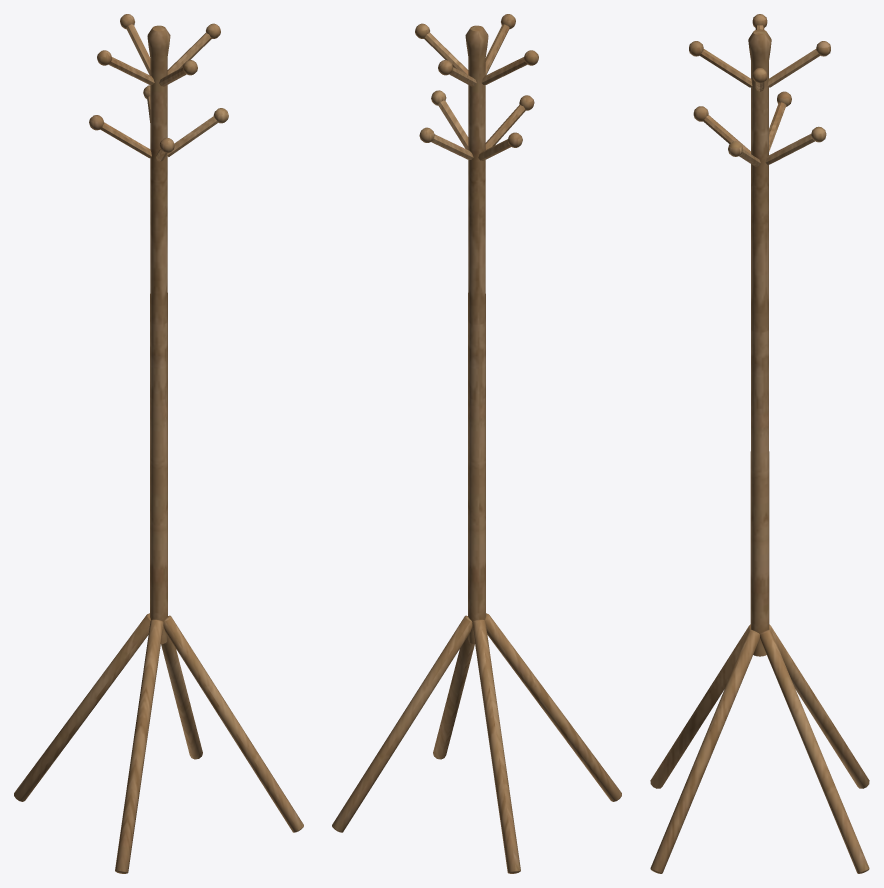
Rendered from perchero_pie_45.glb.
3 renders of one model, left to right at view 1: azimuth 30°, elevation 25°; view 2: azimuth 150°, elevation 25°; view 3: azimuth 270°, elevation 25°, orthographic.
Visible parts, largest first — view 1: perchero_pie_45; view 2: perchero_pie_45; view 3: perchero_pie_45.
Boxes of the visible parts, x1,y1,x2,y2 form: perchero_pie_45: (14, 14, 303, 873); perchero_pie_45: (332, 14, 621, 873); perchero_pie_45: (650, 14, 869, 873).
Size of the model in its own units: 0.447 by 1.8 by 0.447.
Materials: 1 (1 with a texture image).
